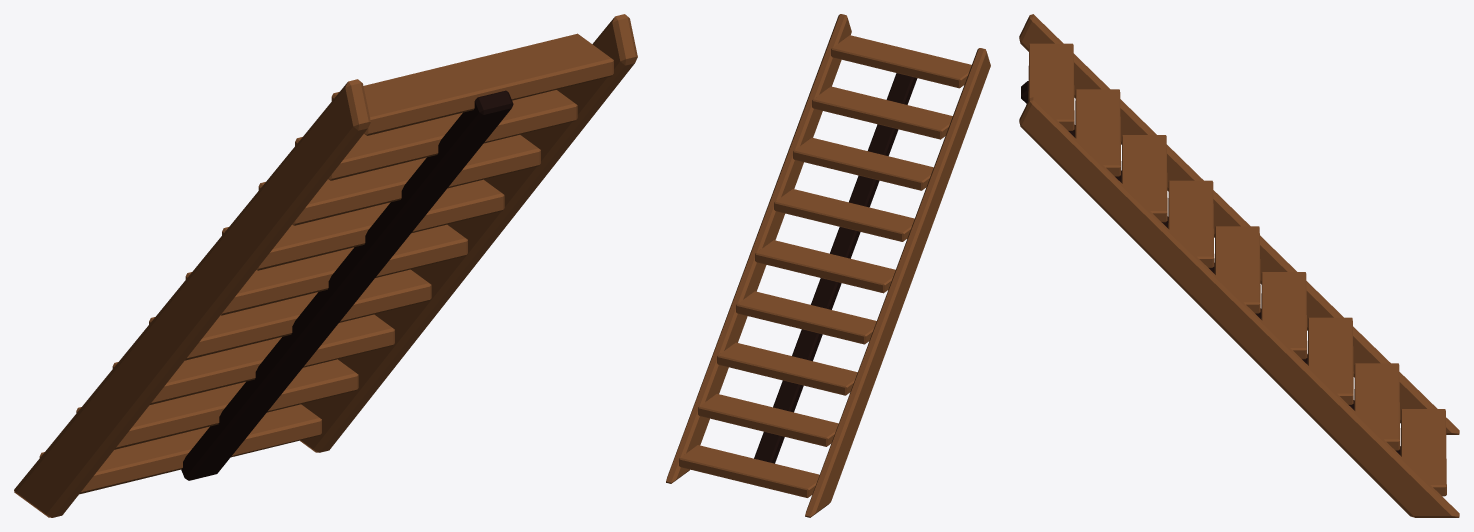
The model's file is ww_stairs_a.glb.
3 views of the same model, side by side, from view 1: azimuth 30°, elevation 25°; view 2: azimuth 150°, elevation 25°; view 3: azimuth 270°, elevation 25° (orthographic). The views are drawn at different scales.
Parts seen in each view (by area): view 1: Stairs_A; view 2: Stairs_A; view 3: Stairs_A.
Part boxes in pixels (x1,y1,x2,y2): Stairs_A: (14,14,637,517); Stairs_A: (666,14,990,517); Stairs_A: (1019,14,1459,517).
Size of the model in its own units: 1.6 by 3.52 by 3.36.
